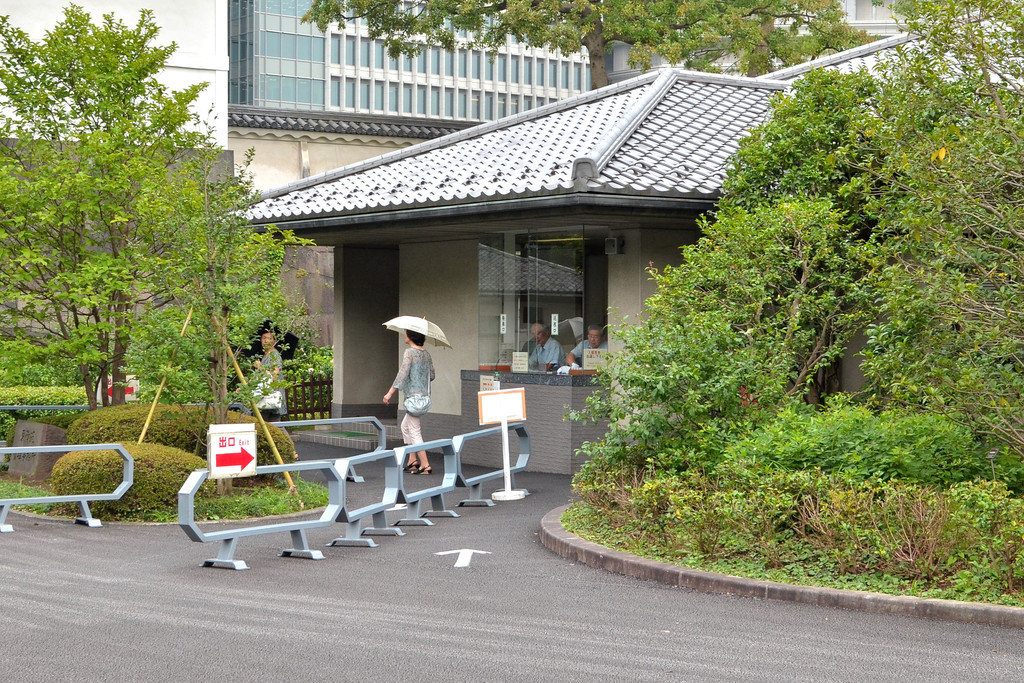Tree: (566, 0, 1022, 535), (10, 23, 254, 438), (296, 0, 880, 94)
